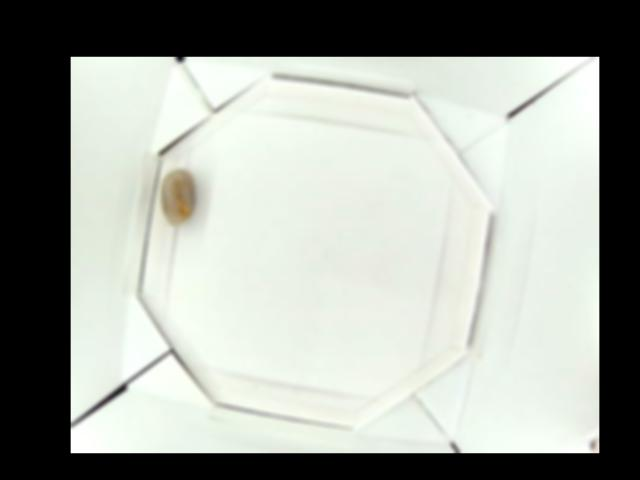Pebble: (162, 169, 196, 226)
